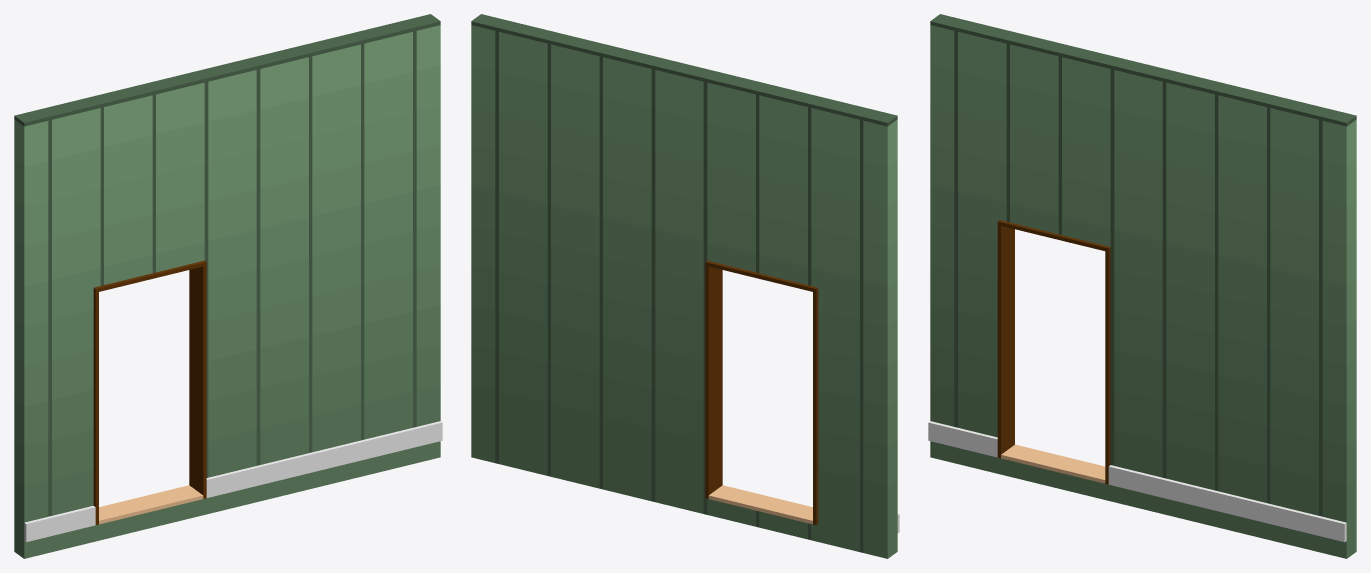
File: wall12.obj
3 views of the same model, side by side, from view 1: azimuth 30°, elevation 25°; view 2: azimuth 150°, elevation 25°; view 3: azimuth 330°, elevation 25° (orthographic).
Size of the model in its own units: 12 by 12 by 0.7.
1 material, 1 textured.
